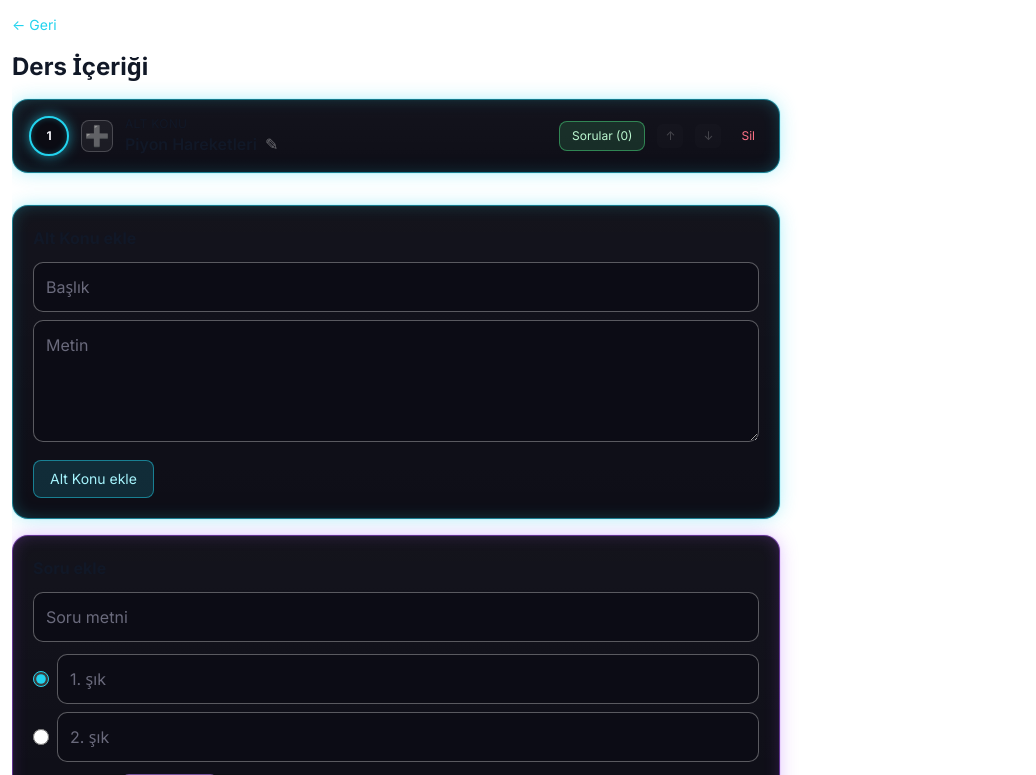
Test: Admin ders sayfası — Alt Konu 2×2 kart ızgarası (madde 2026-09-05: Video İzle + Ödevini Yap) › 4 kart görünür: Video İzle, Ödevini Yap, Süreli Pratik Yap, Kendini Test Et
The image size is (1036, 775).
Click the button "Sorular (0)".
click(602, 136)  # box x1=559 y1=121 x2=646 y2=151
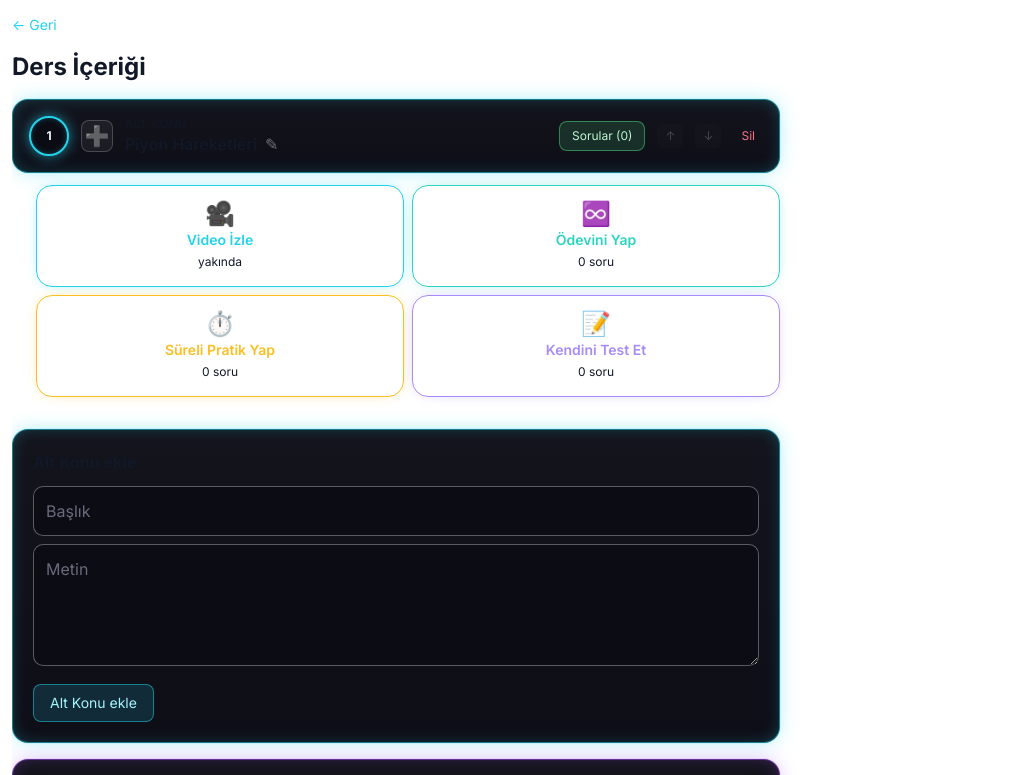
Now the text "Video İzle" is shown, box x1=187 y1=230 x2=253 y2=250
Now the text "Ödevini Yap" is shown, box x1=556 y1=230 x2=636 y2=250
Now the text "Süreli Pratik Yap" is shown, box x1=165 y1=340 x2=275 y2=360
